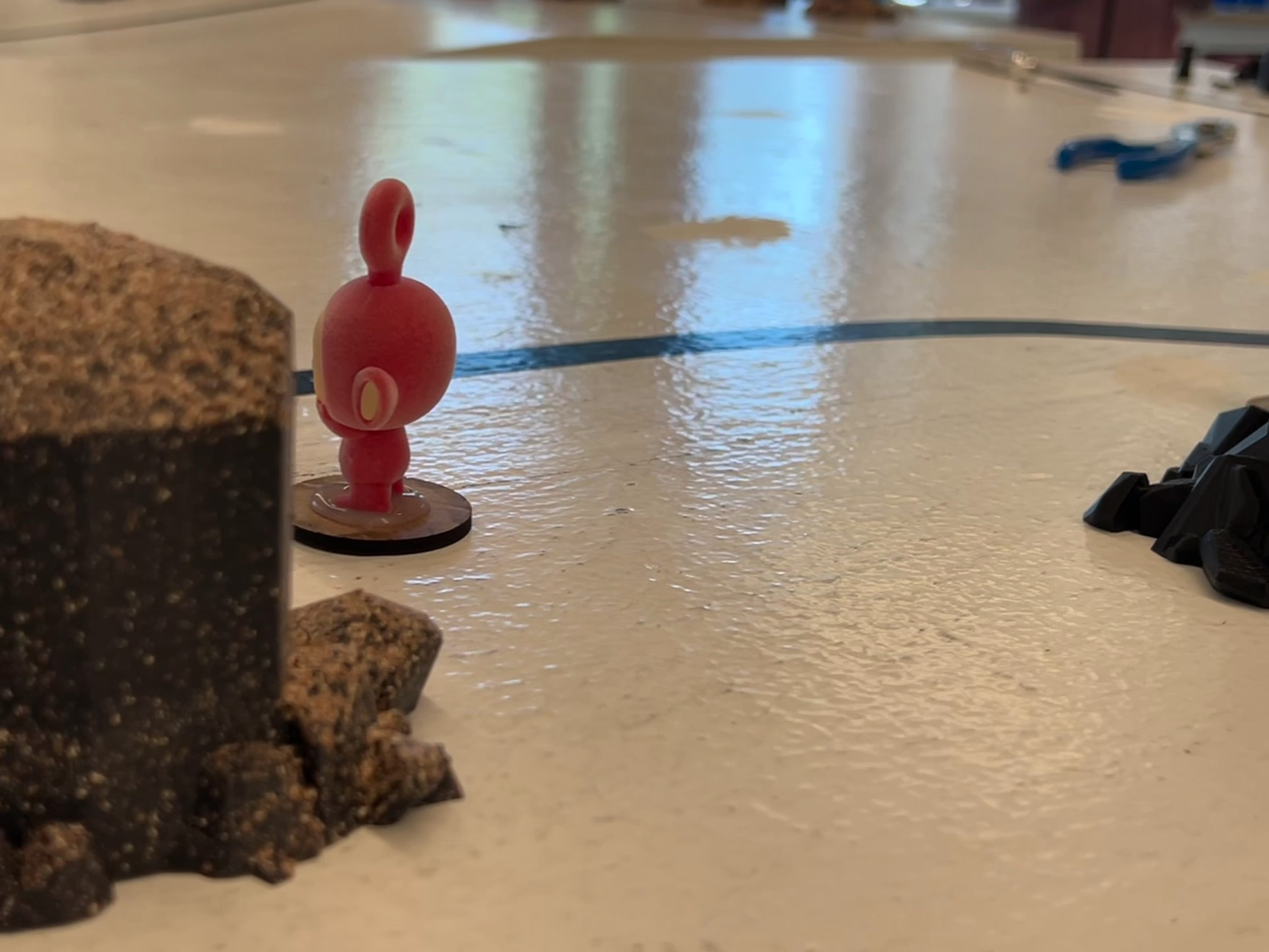teletubby: (313, 178, 456, 518)
